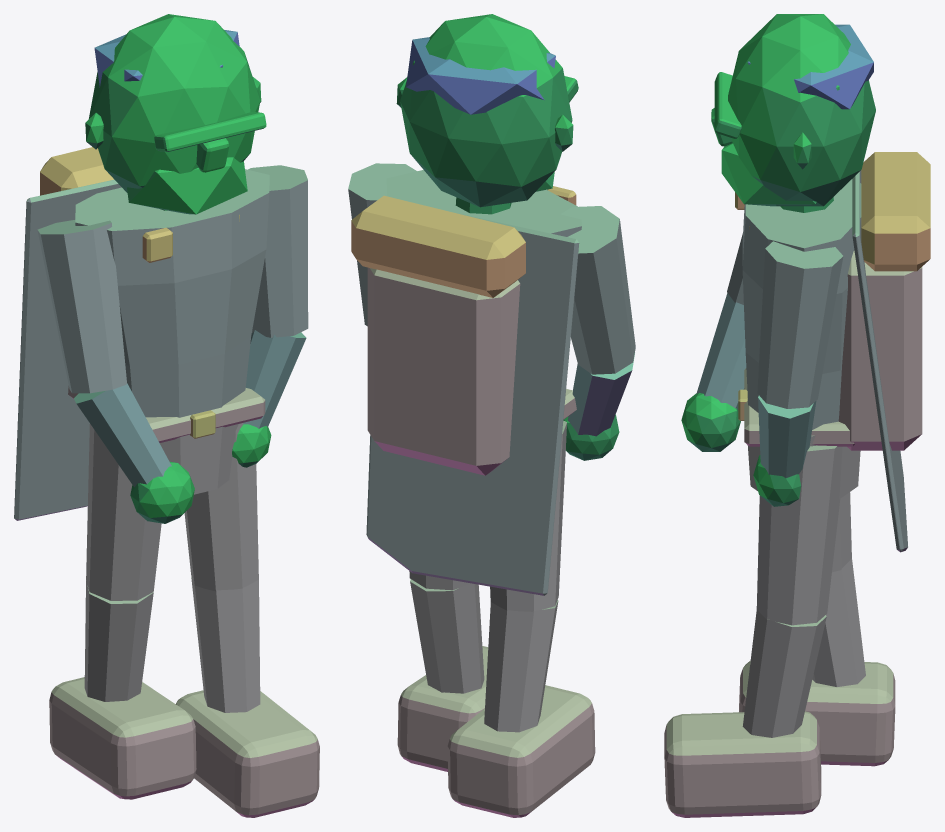
Rendered from npc_refugee_down_r_v01.glb.
The picture shows the model from 3 angles, left to right: view 1: azimuth 30°, elevation 25°; view 2: azimuth 150°, elevation 25°; view 3: azimuth 270°, elevation 25°; orthographic projection.
Visible parts, largest first — view 1: GEO_npc_refugee_down_r_v01; view 2: GEO_npc_refugee_down_r_v01; view 3: GEO_npc_refugee_down_r_v01.
Boxes of the visible parts, x1,y1,x2,y2 form: GEO_npc_refugee_down_r_v01: (14, 14, 319, 817); GEO_npc_refugee_down_r_v01: (348, 14, 635, 817); GEO_npc_refugee_down_r_v01: (664, 14, 930, 817).
Size of the model in its own units: 0.7519 by 2.08 by 0.6538.
